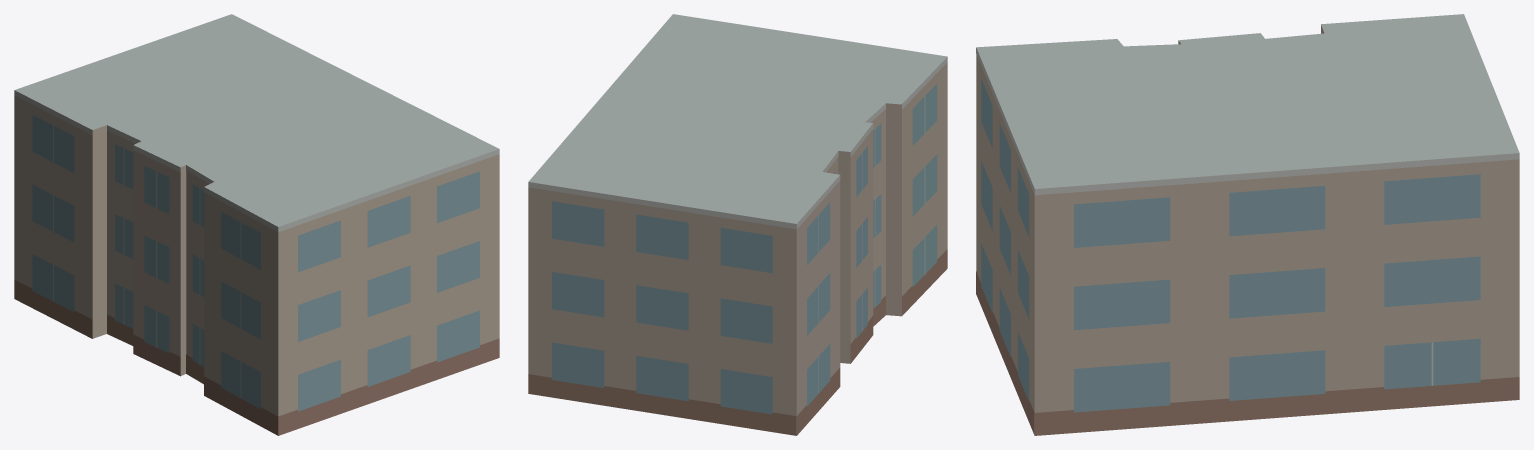
File: survey-upis-33027005.glb
3 renders of one model, left to right at view 1: azimuth 30°, elevation 25°; view 2: azimuth 150°, elevation 25°; view 3: azimuth 270°, elevation 25°, orthographic. The views are drawn at different scales.
Visible parts, largest first — view 1: survey-upis-33027005.tmp; view 2: survey-upis-33027005.tmp; view 3: survey-upis-33027005.tmp.
Part boxes in pixels (x1,y1,x2,y2): survey-upis-33027005.tmp: (14,14,499,435); survey-upis-33027005.tmp: (528,14,947,435); survey-upis-33027005.tmp: (976,14,1519,435).
Bounding box in the file's own units: 14.77 × 9.7 × 19.37.
